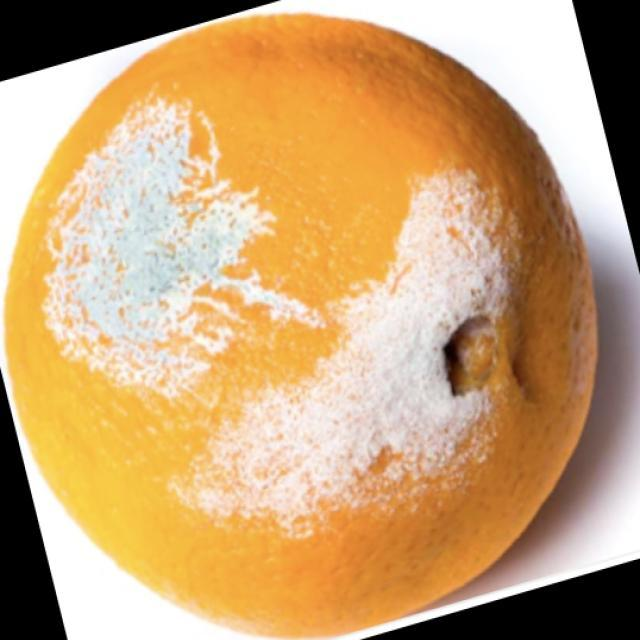sedikit-busuk: (6, 14, 595, 635)
